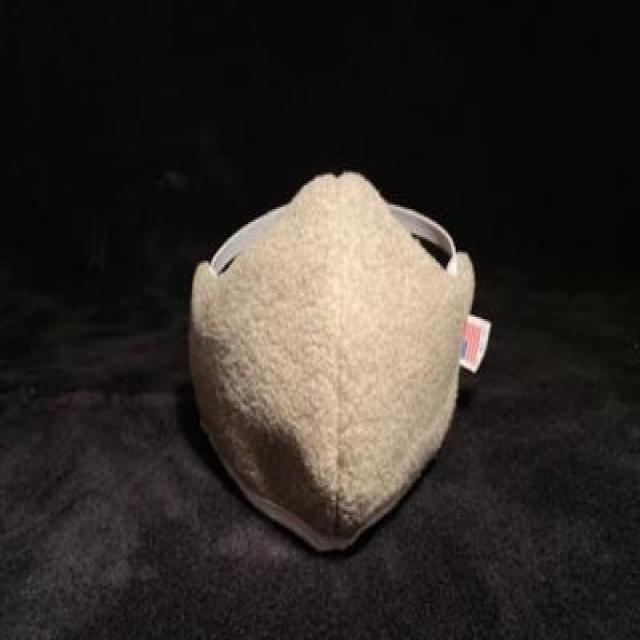face mask: (187, 170, 477, 560)
